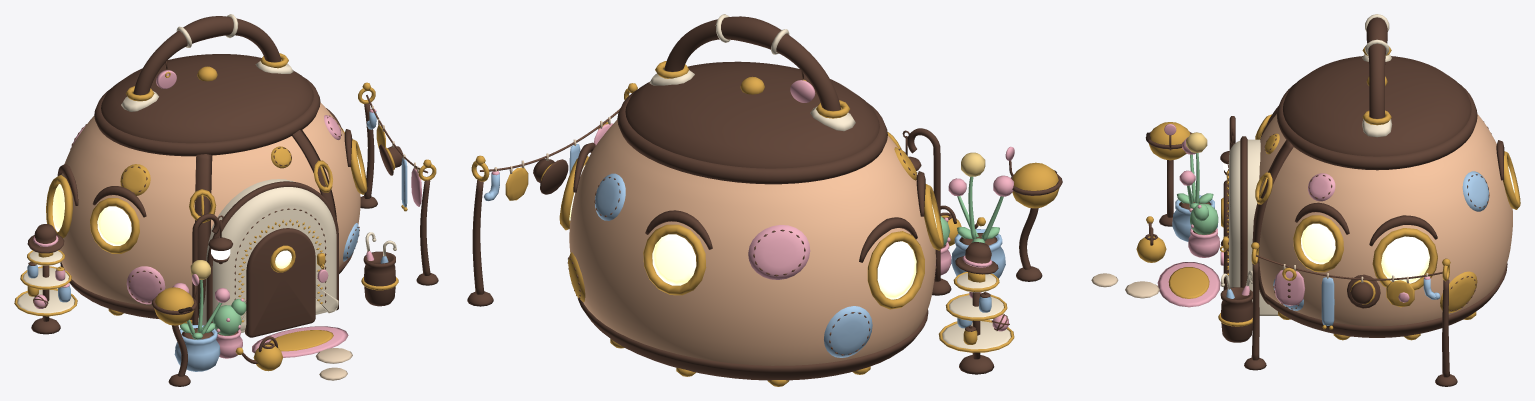
The model's file is house_08_0802.fbx.
3 views of the same model, side by side, from view 1: azimuth 30°, elevation 25°; view 2: azimuth 150°, elevation 25°; view 3: azimuth 270°, elevation 25° (orthographic). The views are drawn at different scales.
Visible parts, largest first — view 1: House_Body_Bag, House_Lid, Entrance_Pocket, Entrance_Door, House_RimPiping, Roof_Handle, Window_Grommets, Prop_RoundShelf, Wall_Straps, Entrance_Mat, Prop_Clothesline_Posts, Window_Glass (+25 smaller); view 2: House_Body_Bag, House_Lid, Window_Grommets, House_RimPiping, House_BaseTrim, Roof_Handle, Prop_RoundShelf, Window_Glass, Wall_Patches_Mint, Wall_Patches_Pink, Window_Eyelids, Prop_Laundry (+11 smaller); view 3: House_Body_Bag, House_Lid, Prop_Laundry, House_RimPiping, Entrance_Pocket, Window_Grommets, Window_Glass, House_BaseTrim, Entrance_Mat, Prop_Clothesline_Posts, Roof_Handle, Prop_UmbrellaStand (+19 smaller).
Part boxes in pixels (box(x1,y1,x2,y2)): House_Body_Bag: box(59, 102, 360, 306); House_Lid: box(101, 54, 313, 143); Entrance_Pocket: box(191, 179, 338, 332); Entrance_Door: box(245, 228, 315, 337); House_RimPiping: box(94, 77, 320, 156); Roof_Handle: box(133, 16, 281, 95); Window_Grommets: box(46, 128, 367, 253); Prop_RoundShelf: box(14, 250, 77, 334); Wall_Straps: box(195, 130, 336, 317); Entrance_Mat: box(252, 326, 348, 357); Prop_Clothesline_Posts: box(360, 103, 438, 285); Window_Glass: box(52, 155, 361, 245); House_Body_Bag: box(569, 120, 935, 365); House_Lid: box(625, 61, 879, 168); Window_Grommets: box(559, 156, 943, 309); House_RimPiping: box(617, 90, 887, 184); House_BaseTrim: box(577, 297, 928, 380); Roof_Handle: box(664, 16, 840, 110); Prop_RoundShelf: box(938, 272, 1014, 374); Window_Glass: box(569, 165, 936, 299); Wall_Patches_Mint: box(595, 173, 872, 357); Wall_Patches_Pink: box(748, 225, 935, 279); Window_Eyelids: box(573, 142, 925, 262); Prop_Laundry: box(484, 122, 612, 200); House_Body_Bag: box(1259, 114, 1512, 326); House_Lid: box(1283, 56, 1471, 156); Prop_Laundry: box(1274, 267, 1440, 329); House_RimPiping: box(1277, 84, 1477, 170); Entrance_Pocket: box(1229, 139, 1278, 315); Window_Grommets: box(1293, 151, 1520, 290); Window_Glass: box(1301, 166, 1514, 283); House_BaseTrim: box(1265, 263, 1507, 337); Entrance_Mat: box(1157, 262, 1220, 307); Prop_Clothesline_Posts: box(1244, 263, 1457, 386); Roof_Handle: box(1366, 17, 1387, 118); Prop_UmbrellaStand: box(1218, 287, 1252, 342).
Size of the model in its own units: 6.32 by 3.85 by 5.71.
